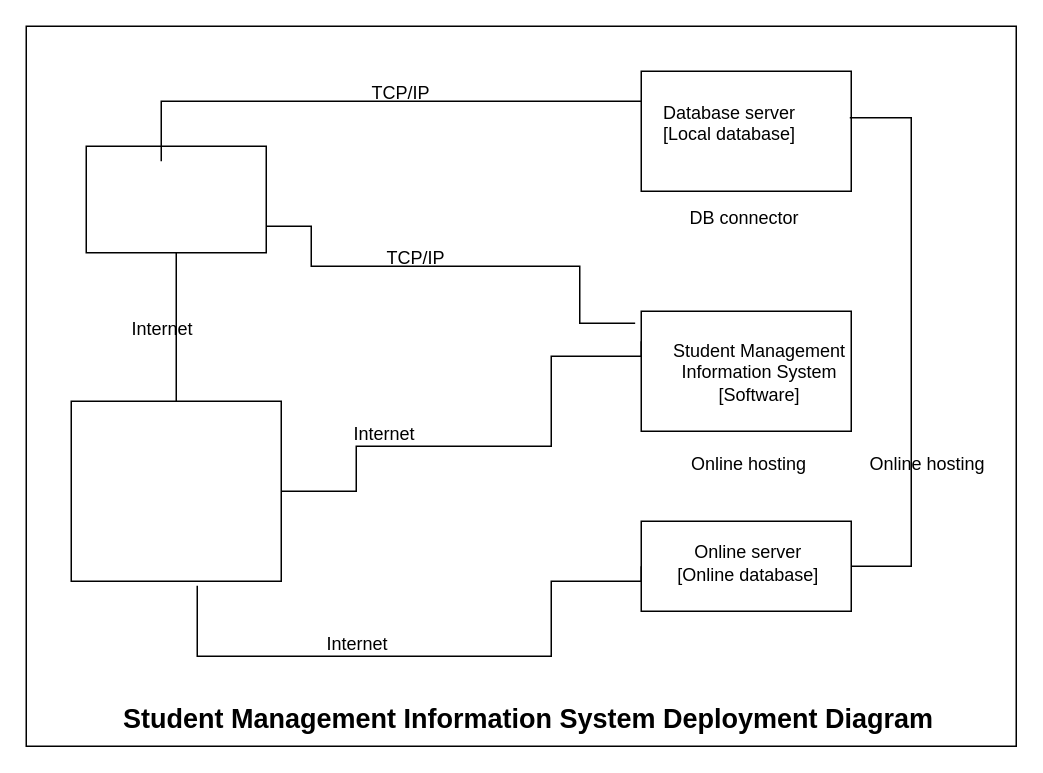
This 1043x773 diagram has some shape labels left out. Here are the shapes that lost their labels. From the top down, the box of each, then its label:
(85, 145, 266, 253): Admin Device
(70, 400, 281, 581): Student/Teacher/ parents' device
